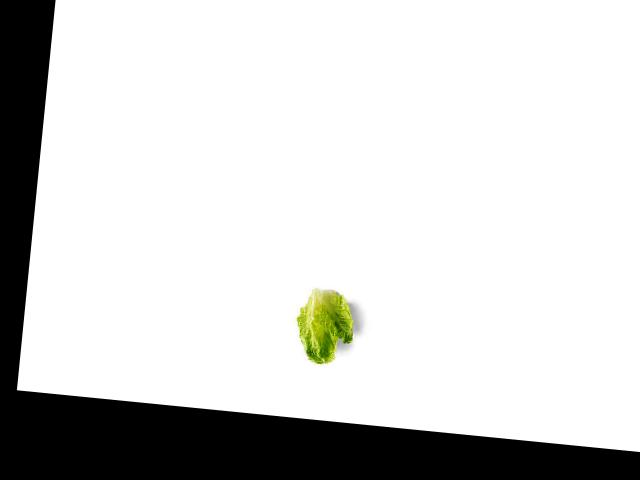lettuce: (290, 279, 359, 371)
